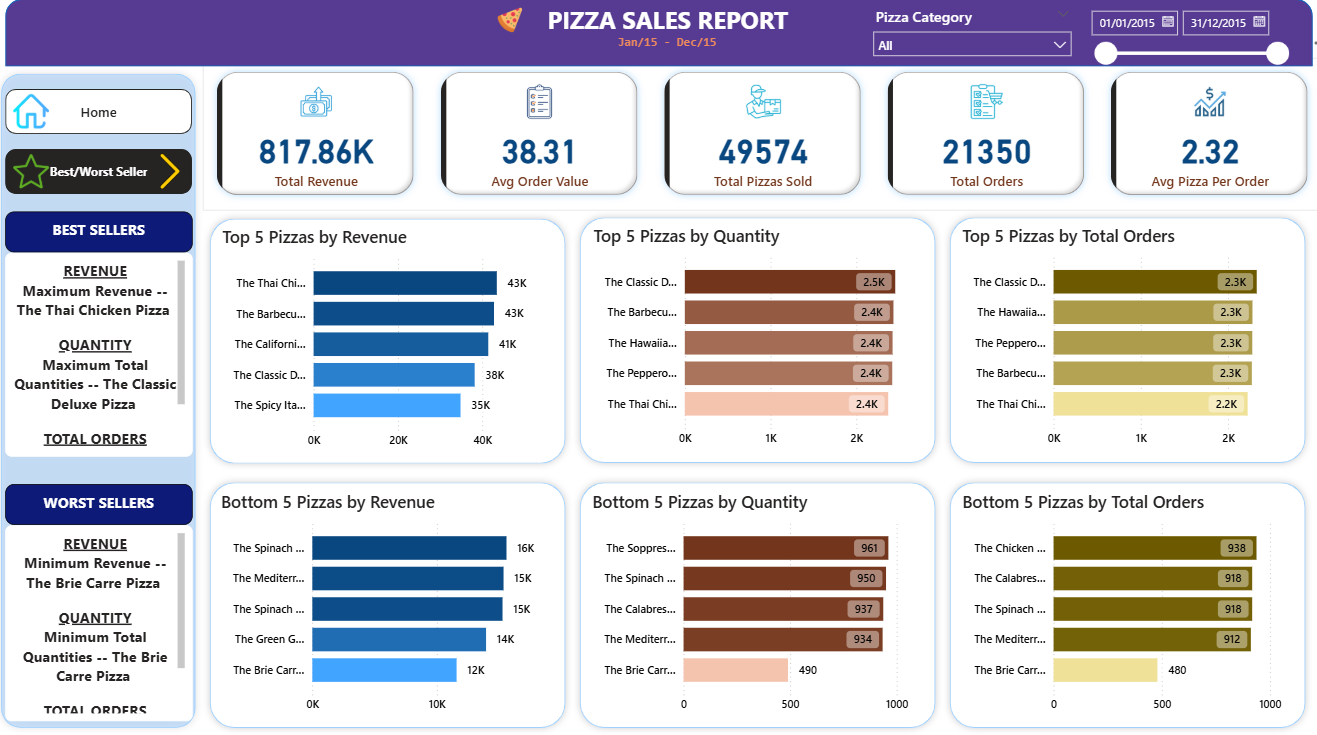

The dashboard page shown, as its layout file describes it:
{"tool":"powerbi","page":{"name":"Best/Worst Seller ","canvas":[1500,820],"ordinal":1},"visuals":[{"type":"shape","box":[0,75.2,232.6,745.1],"z":0},{"type":"cardVisual","fields":{"Data":["pizza_sales.Total Revenue","pizza_sales.Avg Order Value","pizza_sales.Total Pizzas Sold","pizza_sales.Total Orders","pizza_sales.Avg Pizza Per Order"]},"box":[232.6,65.5,1250.6,169.9],"z":1000},{"type":"shape","box":[12.5,0,1456.7,75.2],"z":2000},{"type":"textbox","box":[603,0,295.2,46],"z":3000},{"type":"textbox","box":[683.8,33.4,132.3,32],"z":4000},{"type":"image","box":[545.9,4.2,57.1,39],"z":5000},{"type":"shape","box":[232.6,236.8,412.2,289],"z":6000},{"type":"shape","box":[232.6,530.6,412.2,289.7],"z":7000},{"type":"shape","box":[644.8,530.6,412.2,289.7],"z":8000},{"type":"shape","box":[1057,530.6,412.2,289.7],"z":9000},{"type":"textbox","box":[12.5,236.8,208.9,46],"z":10000},{"type":"textbox","box":[12.5,282.7,208.9,227],"z":11000},{"type":"textbox","box":[12.5,540.4,208.9,46],"z":12000},{"type":"textbox","box":[12.5,586.3,208.9,218.6],"z":13000},{"type":"slicer","fields":{"Values":["pizza_sales.order_date"]},"box":[1210.2,2.8,240.9,72.4],"z":14000},{"type":"slicer","fields":{"Values":["pizza_sales.pizza_category"]},"box":[969.3,2.8,240.9,72.4],"z":15000},{"type":"shape","box":[1057,235.4,412.2,289.7],"z":16000},{"type":"shape","box":[644.8,235.4,412.2,289.7],"z":17000},{"type":"barChart","title":"Top 5 Pizzas by Revenue","fields":{"Category":["pizza_sales.pizza_name"],"Y":["pizza_sales.Total Revenue"]},"box":[249.3,252.1,377.4,257.6],"z":18000},{"type":"barChart","title":"Bottom 5 Pizzas by Revenue","fields":{"Category":["pizza_sales.pizza_name"],"Y":["pizza_sales.Total Revenue"]},"box":[247.6,546.7,377.9,257.3],"z":19000},{"type":"barChart","title":"Top 5 Pizzas by Quantity","fields":{"Category":["pizza_sales.pizza_name"],"Y":["pizza_sales.Total Pizzas Sold"]},"box":[662.5,250.9,377.9,257.3],"z":20000},{"type":"barChart","title":"Bottom 5 Pizzas by Quantity","fields":{"Category":["pizza_sales.pizza_name"],"Y":["pizza_sales.Total Pizzas Sold"]},"box":[660.9,546.7,377.9,257.3],"z":21000},{"type":"barChart","title":"Top 5 Pizzas by Total Orders","fields":{"Category":["pizza_sales.pizza_name"],"Y":["pizza_sales.Total Orders"]},"box":[1074.2,250.9,377.9,257.3],"z":22000},{"type":"barChart","title":"Bottom 5 Pizzas by Total Orders","fields":{"Category":["pizza_sales.pizza_name"],"Y":["pizza_sales.Total Orders"]},"box":[1074.2,546.7,377.9,257.3],"z":23000},{"type":"pageNavigator","box":[12.5,100.3,208.9,50.1],"z":24000},{"type":"pageNavigator","box":[12.5,167.1,208.9,50.1],"z":25000},{"type":"image","box":[171.3,167.1,50.1,50.1],"z":26000},{"type":"image","box":[12.5,100.3,57.1,50.1],"z":27000},{"type":"image","box":[12.5,167.1,57.1,50.1],"z":27001}]}

Visuals, with their boxes in screenshot pixels (x1, y1, x2, y2), scaled from the page's 1500x820 canvas onto the 1317x735 screenshot:
shape: x1=0, y1=67, x2=204, y2=734
cardVisual - pizza_sales.Total Revenue x pizza_sales.Avg Order Value: x1=204, y1=59, x2=1302, y2=211
shape: x1=11, y1=0, x2=1290, y2=67
textbox: x1=529, y1=0, x2=789, y2=41
textbox: x1=600, y1=30, x2=717, y2=59
image: x1=479, y1=4, x2=529, y2=39
shape: x1=204, y1=212, x2=566, y2=471
shape: x1=204, y1=476, x2=566, y2=734
shape: x1=566, y1=476, x2=928, y2=734
shape: x1=928, y1=476, x2=1290, y2=734
textbox: x1=11, y1=212, x2=194, y2=253
textbox: x1=11, y1=253, x2=194, y2=457
textbox: x1=11, y1=484, x2=194, y2=526
textbox: x1=11, y1=526, x2=194, y2=721
slicer - pizza_sales.order_date: x1=1063, y1=3, x2=1274, y2=67
slicer - pizza_sales.pizza_category: x1=851, y1=3, x2=1063, y2=67
shape: x1=928, y1=211, x2=1290, y2=471
shape: x1=566, y1=211, x2=928, y2=471
"Top 5 Pizzas by Revenue" barChart: x1=219, y1=226, x2=550, y2=457
"Bottom 5 Pizzas by Revenue" barChart: x1=217, y1=490, x2=549, y2=721
"Top 5 Pizzas by Quantity" barChart: x1=582, y1=225, x2=913, y2=456
"Bottom 5 Pizzas by Quantity" barChart: x1=580, y1=490, x2=912, y2=721
"Top 5 Pizzas by Total Orders" barChart: x1=943, y1=225, x2=1275, y2=456
"Bottom 5 Pizzas by Total Orders" barChart: x1=943, y1=490, x2=1275, y2=721
pageNavigator: x1=11, y1=90, x2=194, y2=135
pageNavigator: x1=11, y1=150, x2=194, y2=195
image: x1=150, y1=150, x2=194, y2=195
image: x1=11, y1=90, x2=61, y2=135
image: x1=11, y1=150, x2=61, y2=195
